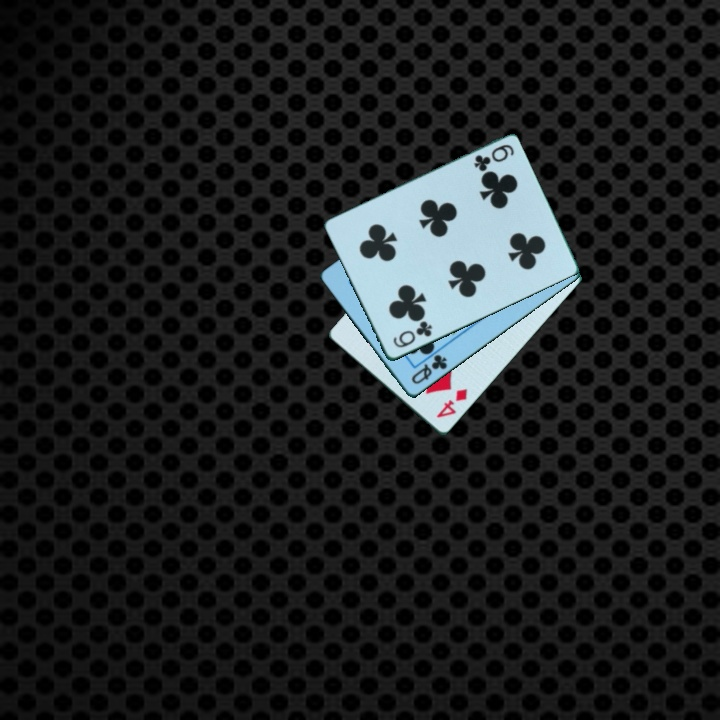4d: (433, 385, 471, 421)
6c: (470, 141, 517, 174), (389, 318, 435, 351)
Qc: (407, 351, 450, 388)
